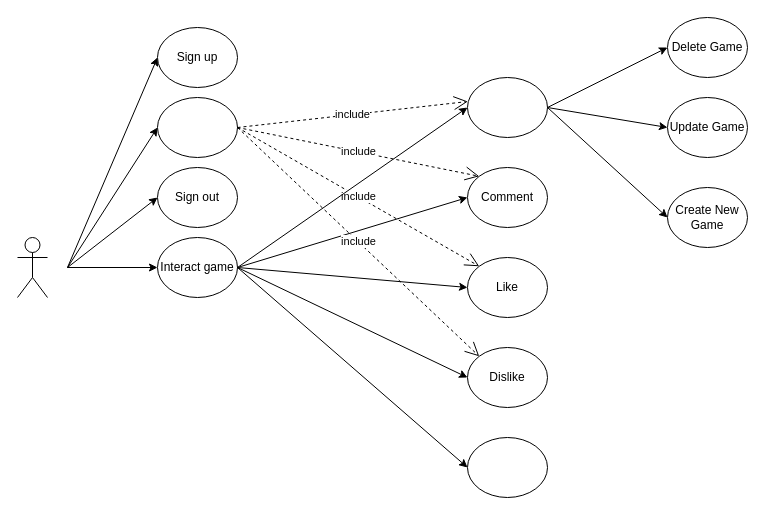
This 765x515 diagram has some shape labels left out. Here are the shapes that lost their labels. From the top down, the centre of each, then its label:
pixel 197 127: Sign in
pixel 507 107: Manage Game
pixel 32 267: User
pixel 507 467: Play
